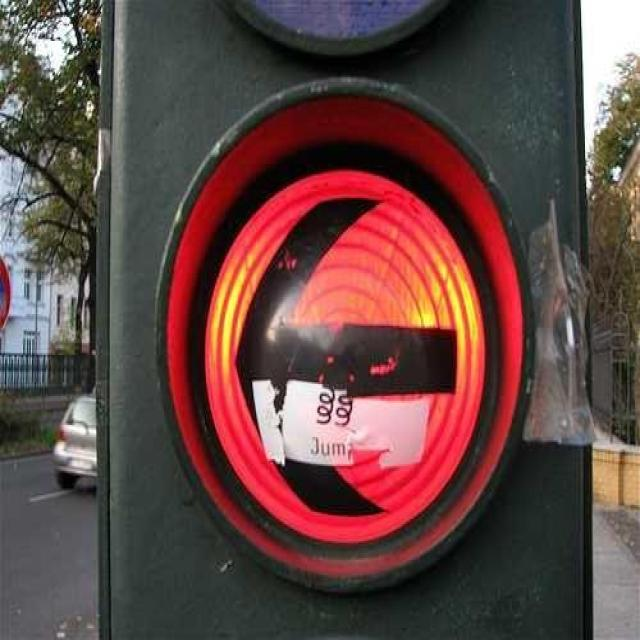Traffic Light -Red-: (88, 66, 598, 640)
